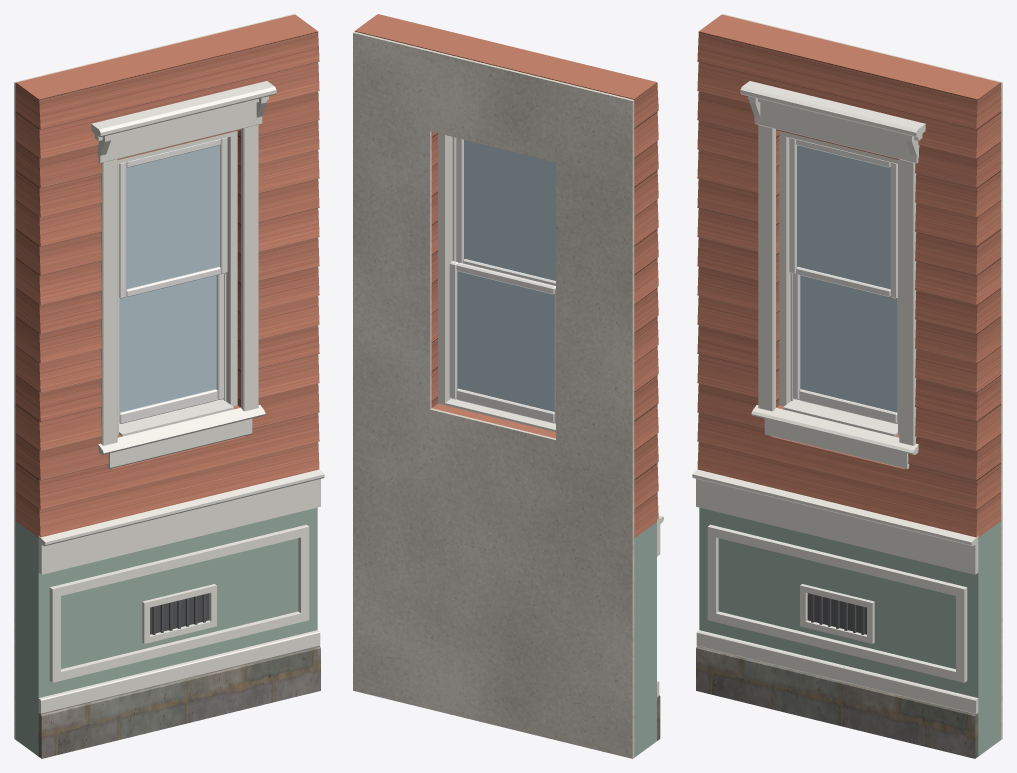
File: b_g_win_e.glb
3 renders of one model, left to right at view 1: azimuth 30°, elevation 25°; view 2: azimuth 150°, elevation 25°; view 3: azimuth 330°, elevation 25°, orthographic.
Visible parts, largest first — view 1: b_g_win_e_siding_e, b_g_win_e_trim, b_g_win_e_acc_e, b_g_win_e_glass, b_g_win_e_plinth, b_g_win_e_sash, b_g_win_e_frame, b_g_win_e_plaster, b_g_win_e_dark, b_g_win_e_iron; view 2: b_g_win_e_plaster, b_g_win_e_glass, b_g_win_e_siding_e, b_g_win_e_sash, b_g_win_e_acc_e, b_g_win_e_frame, b_g_win_e_trim; view 3: b_g_win_e_siding_e, b_g_win_e_trim, b_g_win_e_acc_e, b_g_win_e_glass, b_g_win_e_plinth, b_g_win_e_sash, b_g_win_e_frame, b_g_win_e_plaster, b_g_win_e_dark, b_g_win_e_iron.
Part boxes in pixels (box(x1,y1,x2,y2)): b_g_win_e_siding_e: box(16, 14, 319, 537); b_g_win_e_trim: box(38, 81, 324, 713); b_g_win_e_acc_e: box(16, 507, 317, 756); b_g_win_e_glass: box(119, 145, 219, 412); b_g_win_e_plinth: box(38, 646, 320, 758); b_g_win_e_sash: box(119, 137, 227, 423); b_g_win_e_frame: box(117, 131, 237, 434); b_g_win_e_plaster: box(14, 14, 293, 739); b_g_win_e_dark: box(150, 593, 209, 634); b_g_win_e_iron: box(152, 594, 205, 634); b_g_win_e_plaster: box(353, 31, 634, 758); b_g_win_e_glass: box(457, 139, 555, 411); b_g_win_e_siding_e: box(354, 14, 658, 537); b_g_win_e_sash: box(449, 138, 555, 423); b_g_win_e_acc_e: box(634, 522, 656, 757); b_g_win_e_frame: box(438, 133, 456, 404); b_g_win_e_trim: box(445, 398, 663, 696); b_g_win_e_siding_e: box(697, 14, 1000, 537); b_g_win_e_trim: box(692, 81, 978, 713); b_g_win_e_acc_e: box(699, 507, 1000, 756); b_g_win_e_glass: box(797, 145, 897, 412); b_g_win_e_plinth: box(696, 646, 978, 758); b_g_win_e_sash: box(789, 137, 897, 423); b_g_win_e_frame: box(779, 131, 899, 434); b_g_win_e_plaster: box(723, 14, 1002, 739); b_g_win_e_dark: box(807, 593, 866, 634); b_g_win_e_iron: box(811, 594, 864, 634).
Size of the model in its own units: 2 by 4.5 by 0.43.
Materials: 10 (3 with a texture image).
